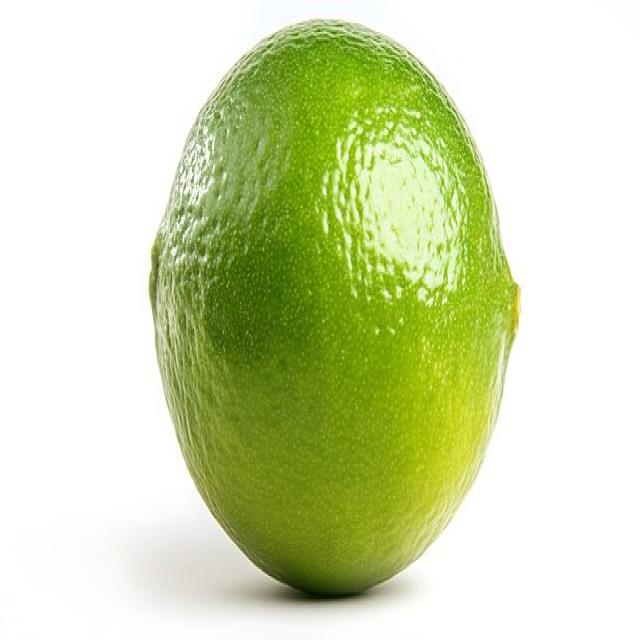Lemon: (147, 16, 521, 597)
